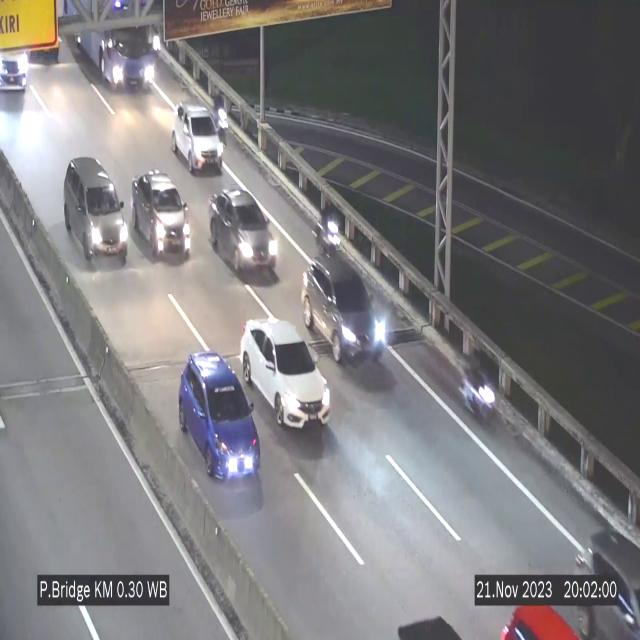Bus: (63, 0, 164, 105)
Car: (179, 352, 261, 478), (296, 257, 386, 371), (559, 517, 640, 639), (241, 319, 330, 427), (61, 155, 130, 269), (210, 188, 278, 278), (132, 170, 190, 258), (172, 103, 224, 173), (0, 43, 38, 100)
Motorcycle: (456, 338, 498, 426), (314, 198, 346, 270), (211, 90, 228, 146)
